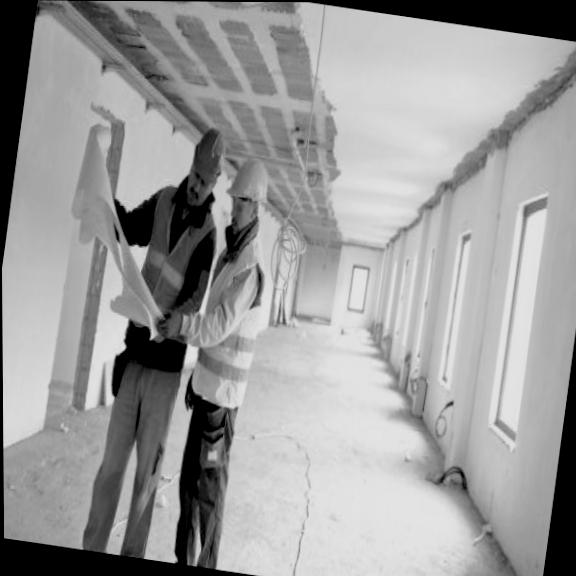safety_vest: (194, 237, 272, 427), (132, 178, 202, 363)
